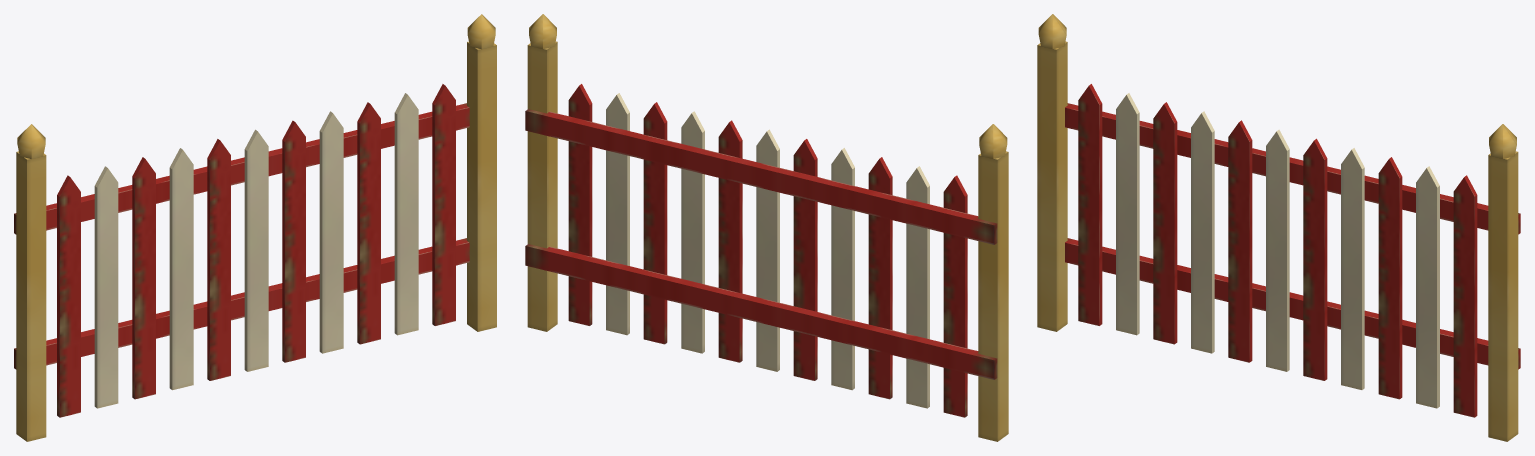
Rendered from fence_carnival.obj.
The picture shows the model from 3 angles, left to right: view 1: azimuth 30°, elevation 25°; view 2: azimuth 150°, elevation 25°; view 3: azimuth 330°, elevation 25°; orthographic projection.
Parts seen in each view (by area): view 1: fence_carnival; view 2: fence_carnival; view 3: fence_carnival.
Boxes of the visible parts, x1,y1,x2,y2 form: fence_carnival: [14, 14, 496, 441]; fence_carnival: [525, 14, 1008, 441]; fence_carnival: [1037, 14, 1520, 441].
Size of the model in its own units: 2.04 by 1.27 by 0.112.
Materials: 1 (1 with a texture image).
